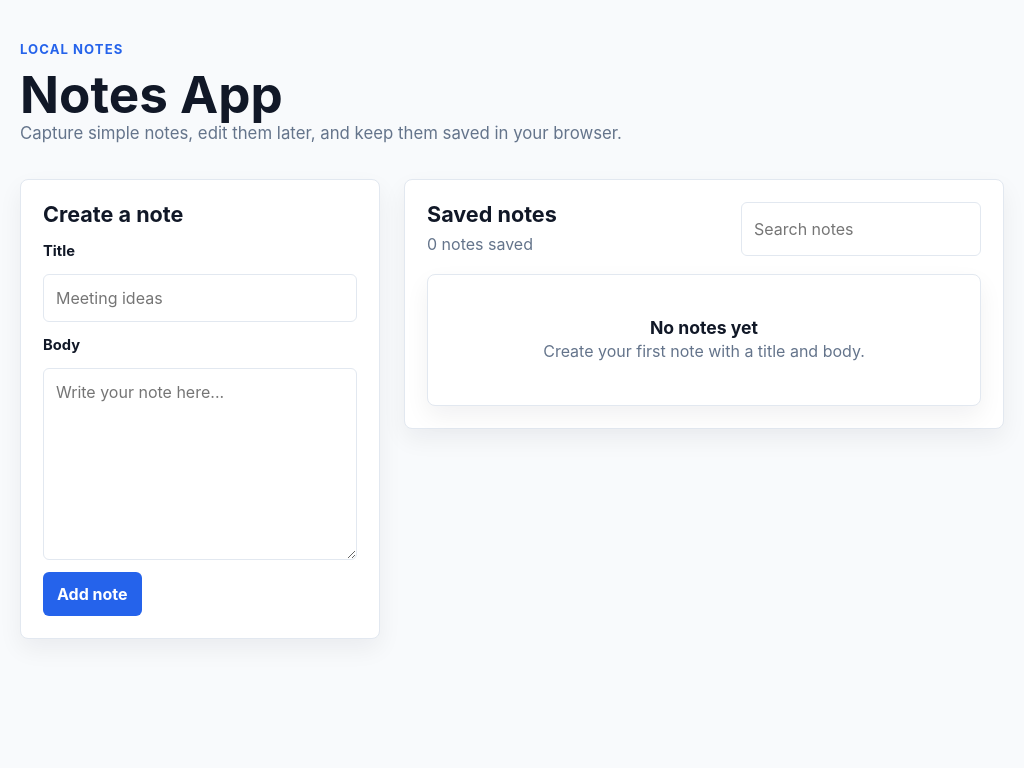
Test case: Notes App › lets a user edit an existing note
Type "Draft title" into the field labelled "Title" at (200, 298), box [43,274,357,322]
Type "Draft body" into the text box labelled "Body" at (200, 464), box [43,368,357,560]
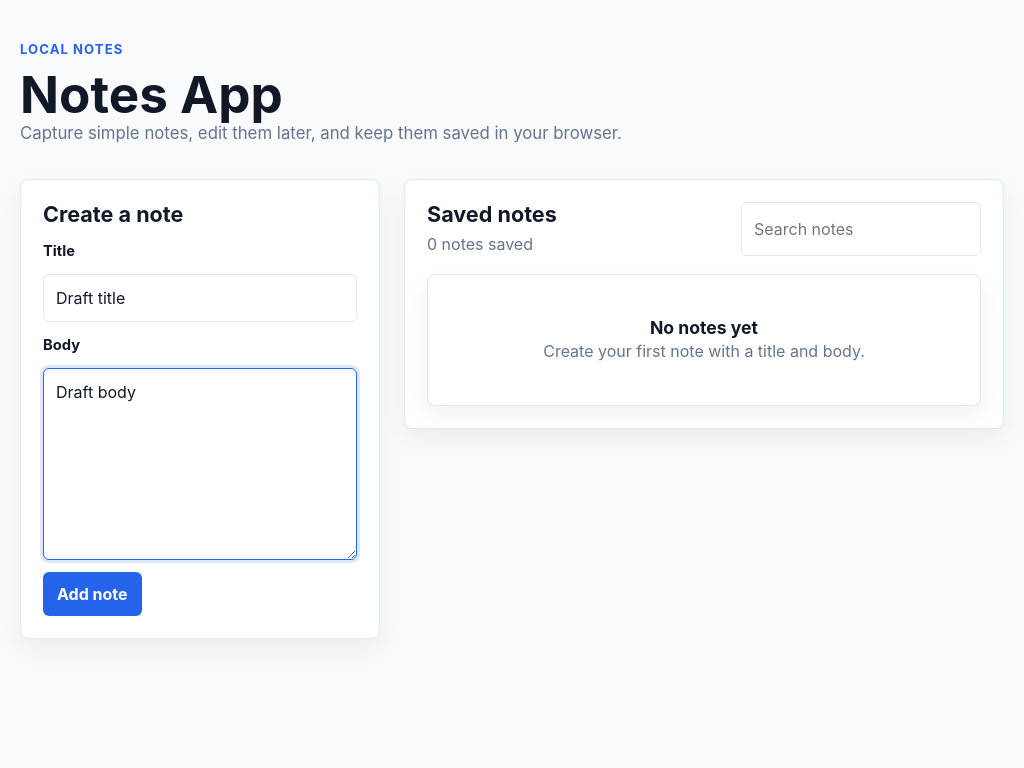
Click the button "Add note" at (92, 594), box [43,572,142,616]
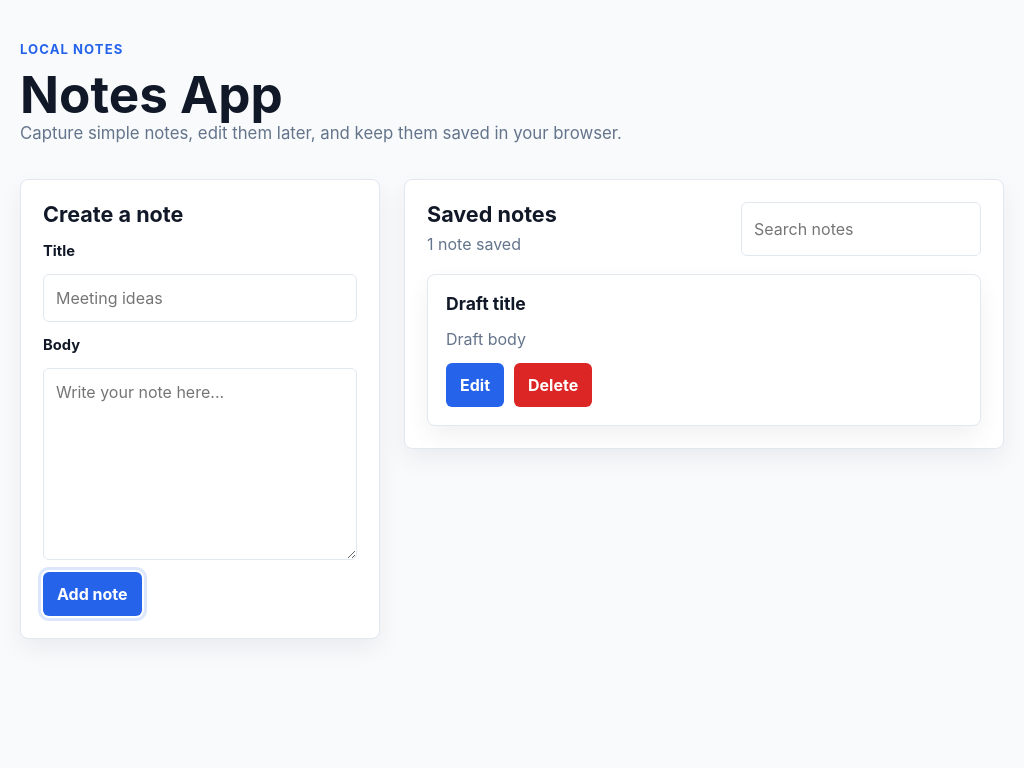
Click the button "Edit" at (475, 385), box [446,363,504,407]
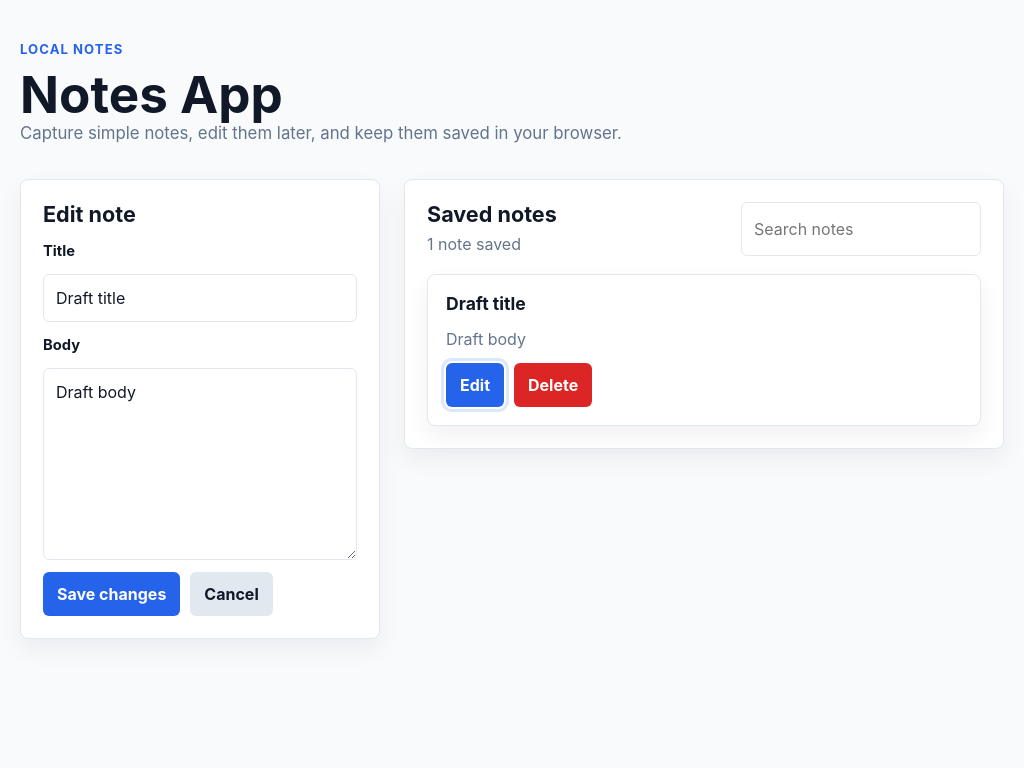
Replace the text in the field labelled "Title" with "Updated title" at (200, 298), box [43,274,357,322]
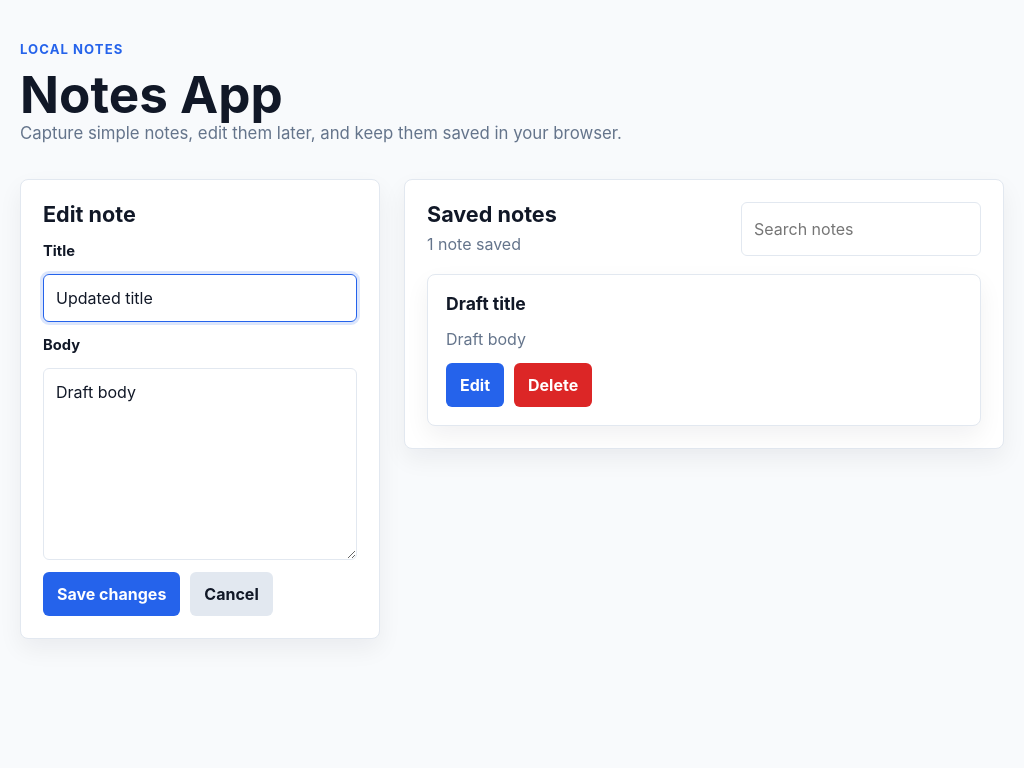
Replace the text in the text box labelled "Body" with "Updated body" at (200, 464), box [43,368,357,560]
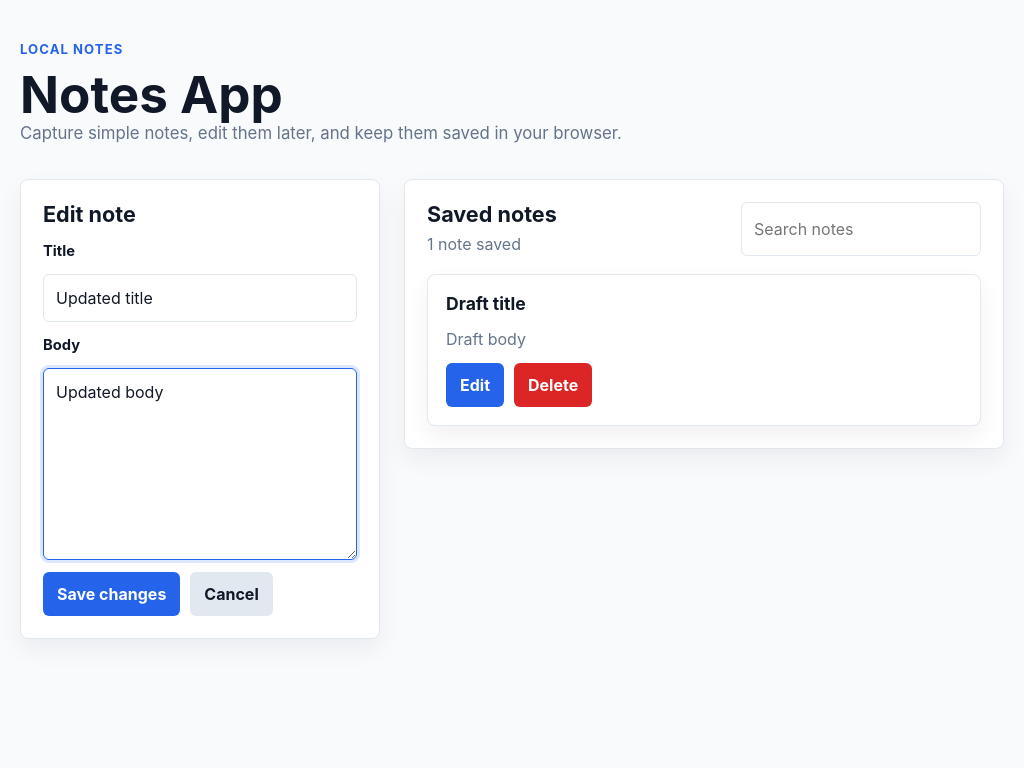
Click the button "Save changes" at (112, 594), box [43,572,180,616]
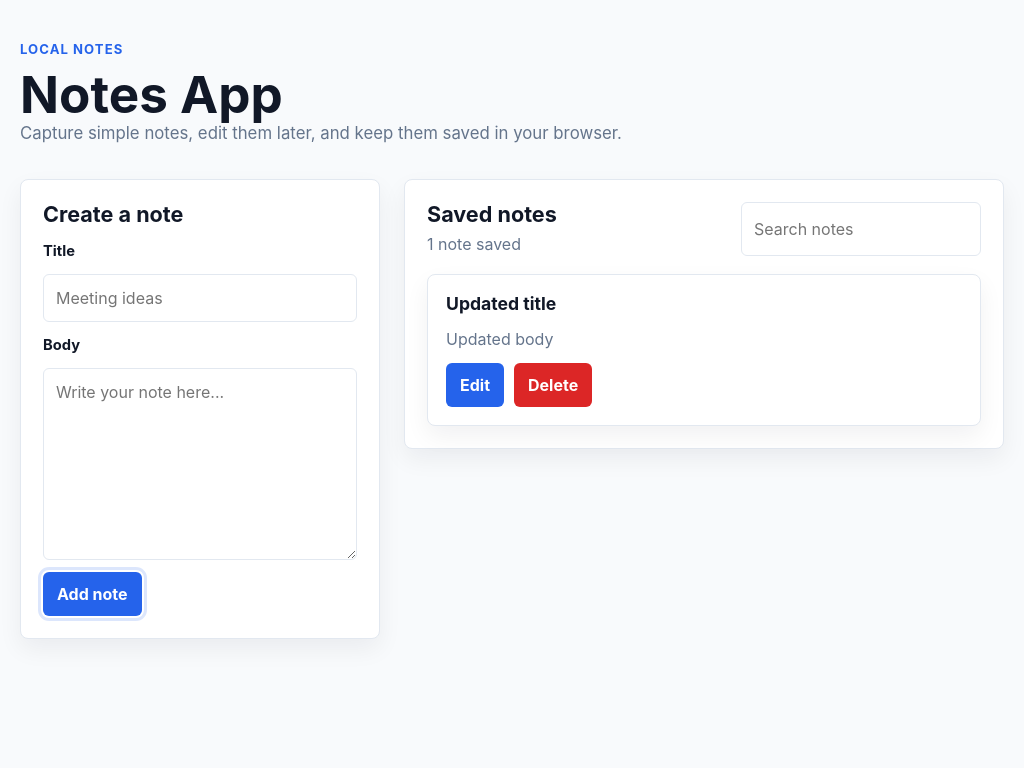
Now the heading "Updated title" is shown, box [446,292,556,314]
Now the text "Updated body" is shown, box [446,329,554,349]
Now the heading "Draft title" is gone
